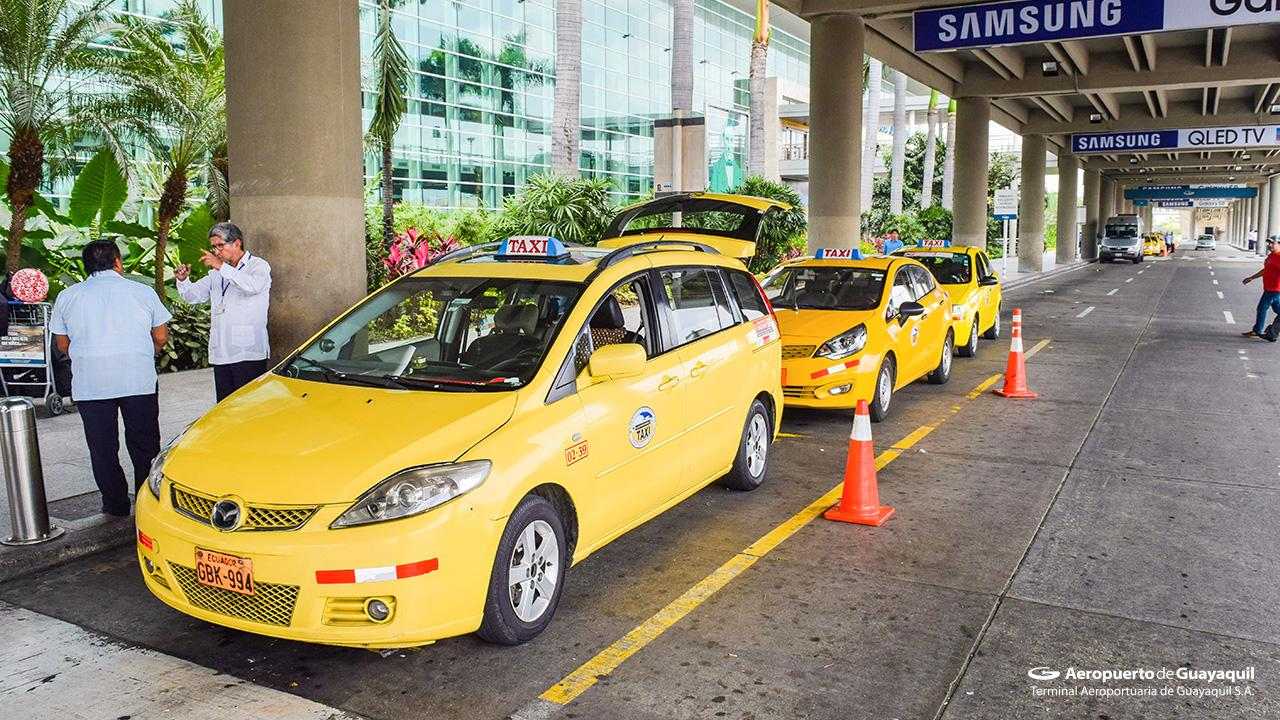taxi: (330, 181, 810, 639)
